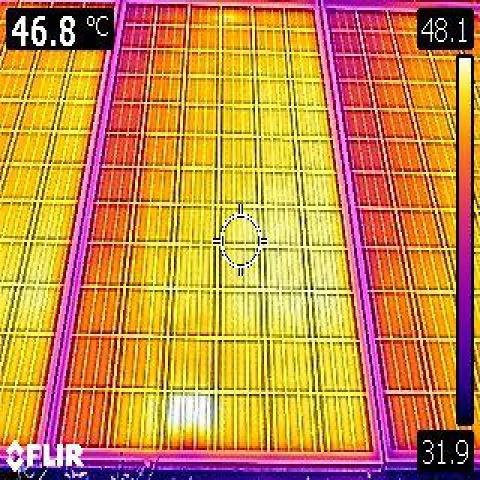fault: (161, 383, 217, 452)
